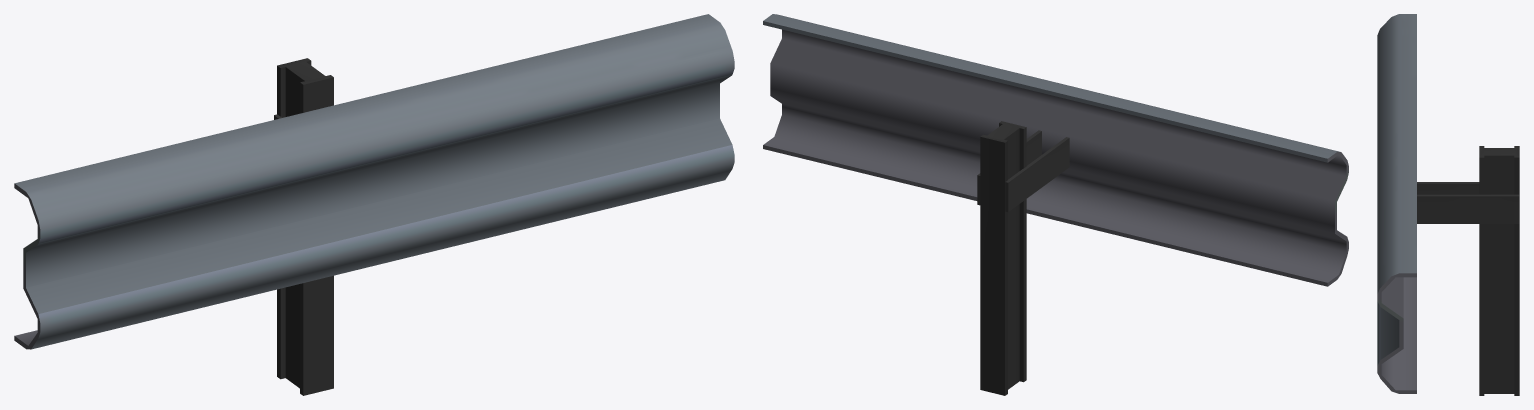
Rendered from Road Fence.fbx.
3 renders of one model, left to right at view 1: azimuth 30°, elevation 25°; view 2: azimuth 150°, elevation 25°; view 3: azimuth 270°, elevation 25°, orthographic. The views are drawn at different scales.
Parts seen in each view (by area): view 1: Road_Fence; view 2: Road_Fence; view 3: Road_Fence.
Boxes of the visible parts, x1=… form: Road_Fence: x1=14, y1=14, x2=734, y2=395; Road_Fence: x1=763, y1=14, x2=1348, y2=395; Road_Fence: x1=1377, y1=14, x2=1519, y2=395.
Bounding box in the file's own units: 445 × 198 × 103.
